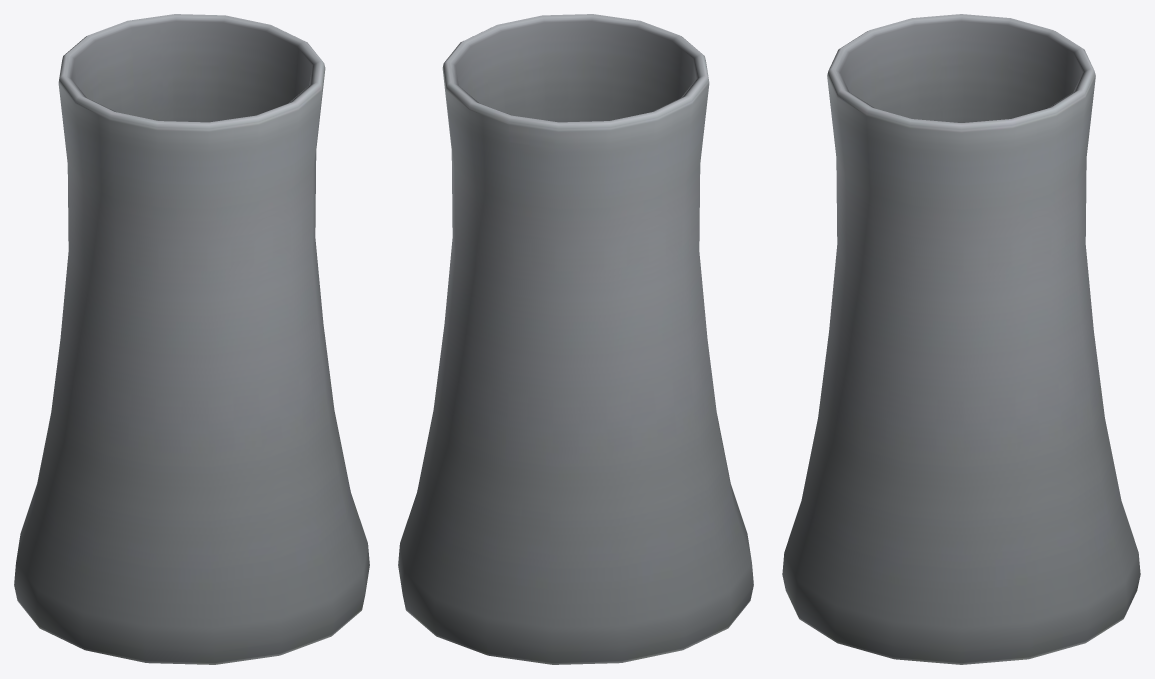
File: industrial_plant_chimney_01.glb
3 views of the same model, side by side, from view 1: azimuth 30°, elevation 25°; view 2: azimuth 150°, elevation 25°; view 3: azimuth 270°, elevation 25° (orthographic).
Visible parts, largest first — view 1: ind:chimneys_01; view 2: ind:chimneys_01; view 3: ind:chimneys_01.
Boxes of the visible parts, <box> form: ind:chimneys_01: <box>14,14,369,664</box>; ind:chimneys_01: <box>398,14,753,664</box>; ind:chimneys_01: <box>782,14,1140,664</box>.
Size of the model in its own units: 17.33 by 27.87 by 17.33.
1 material, 1 textured.
